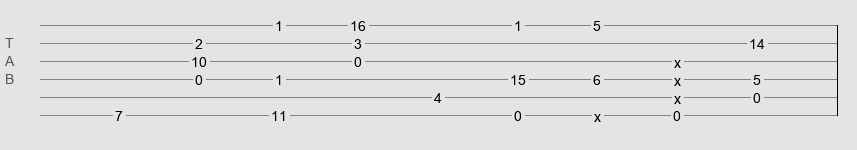0: (195, 72, 203, 82), (354, 54, 362, 64), (514, 108, 522, 118), (673, 108, 681, 118), (753, 90, 761, 100)
1: (275, 18, 283, 28), (275, 72, 283, 82), (514, 18, 522, 28)
10: (191, 54, 207, 64)
11: (271, 108, 287, 118)
14: (749, 36, 765, 46)
15: (510, 72, 526, 82)
16: (350, 18, 366, 28)
2: (195, 36, 203, 46)
3: (354, 36, 362, 46)
4: (434, 90, 442, 100)
5: (593, 18, 601, 28), (753, 72, 761, 82)
6: (593, 72, 601, 82)
7: (115, 108, 123, 118)
x: (594, 109, 601, 117), (674, 73, 681, 81), (674, 91, 681, 99), (674, 55, 681, 63)
